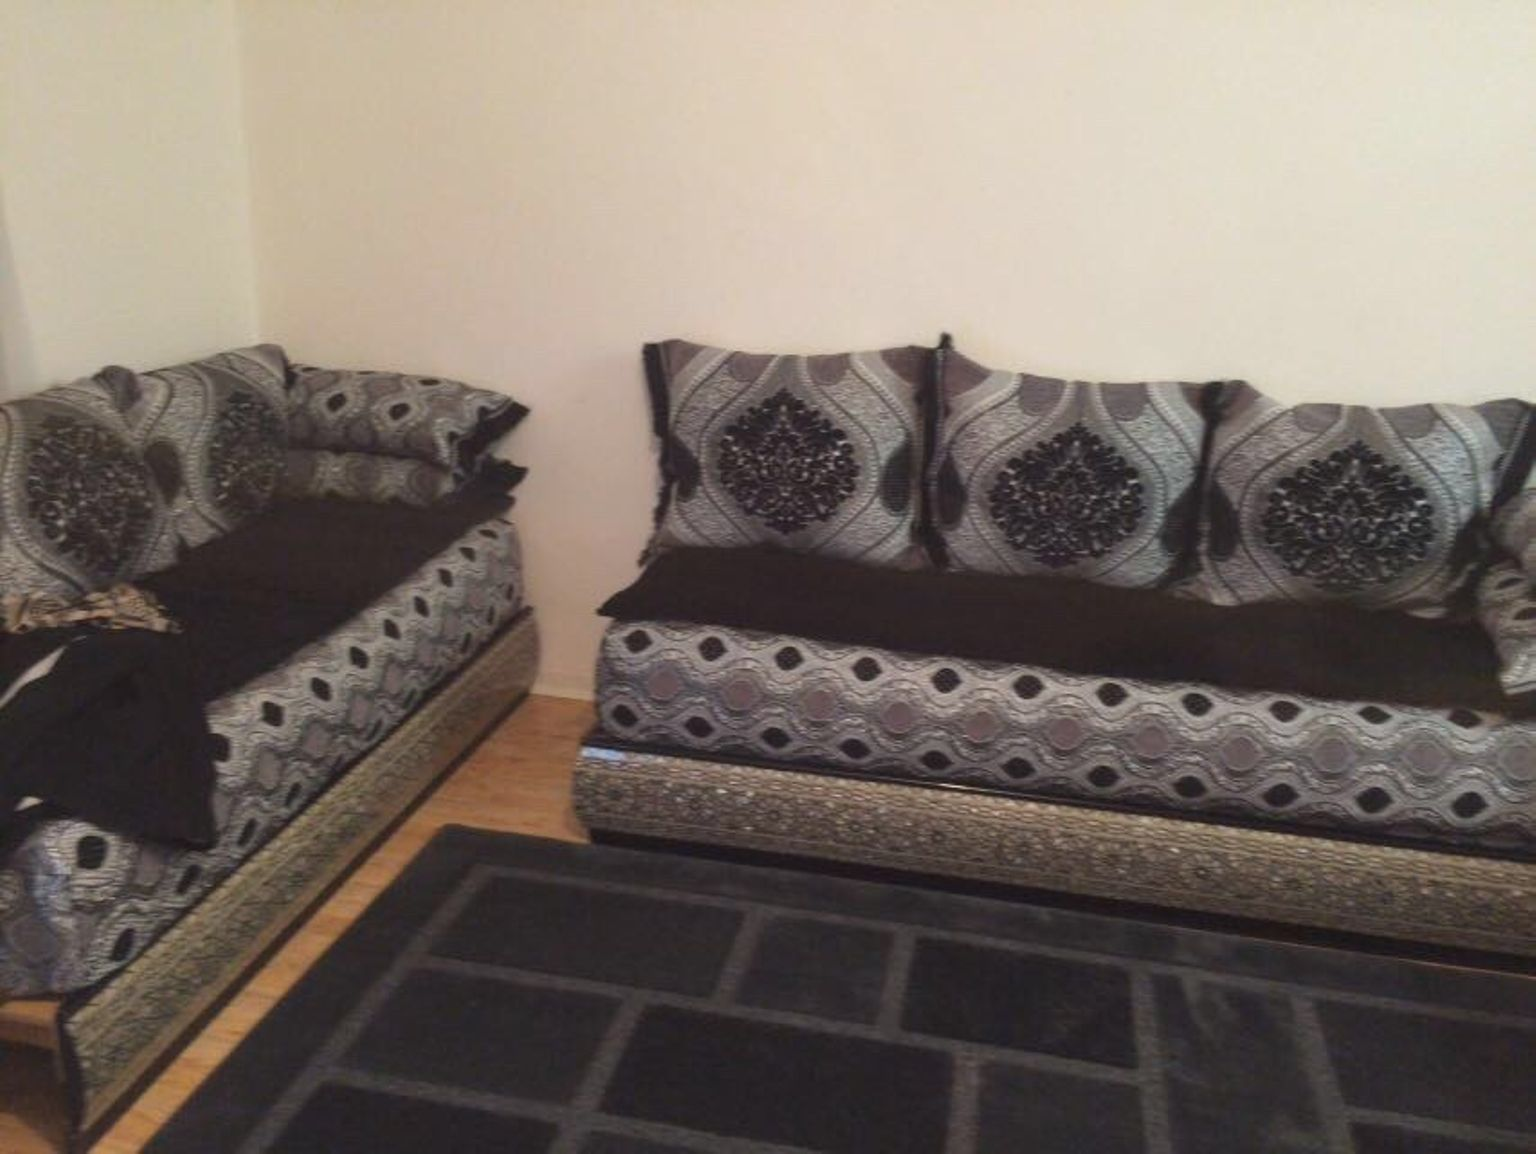chairs: (577, 329, 1536, 947), (1, 327, 546, 1137)
